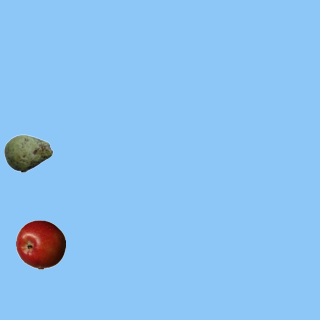Apple Braeburn: (15, 219, 65, 269)
Pear Stone: (3, 128, 53, 178)
